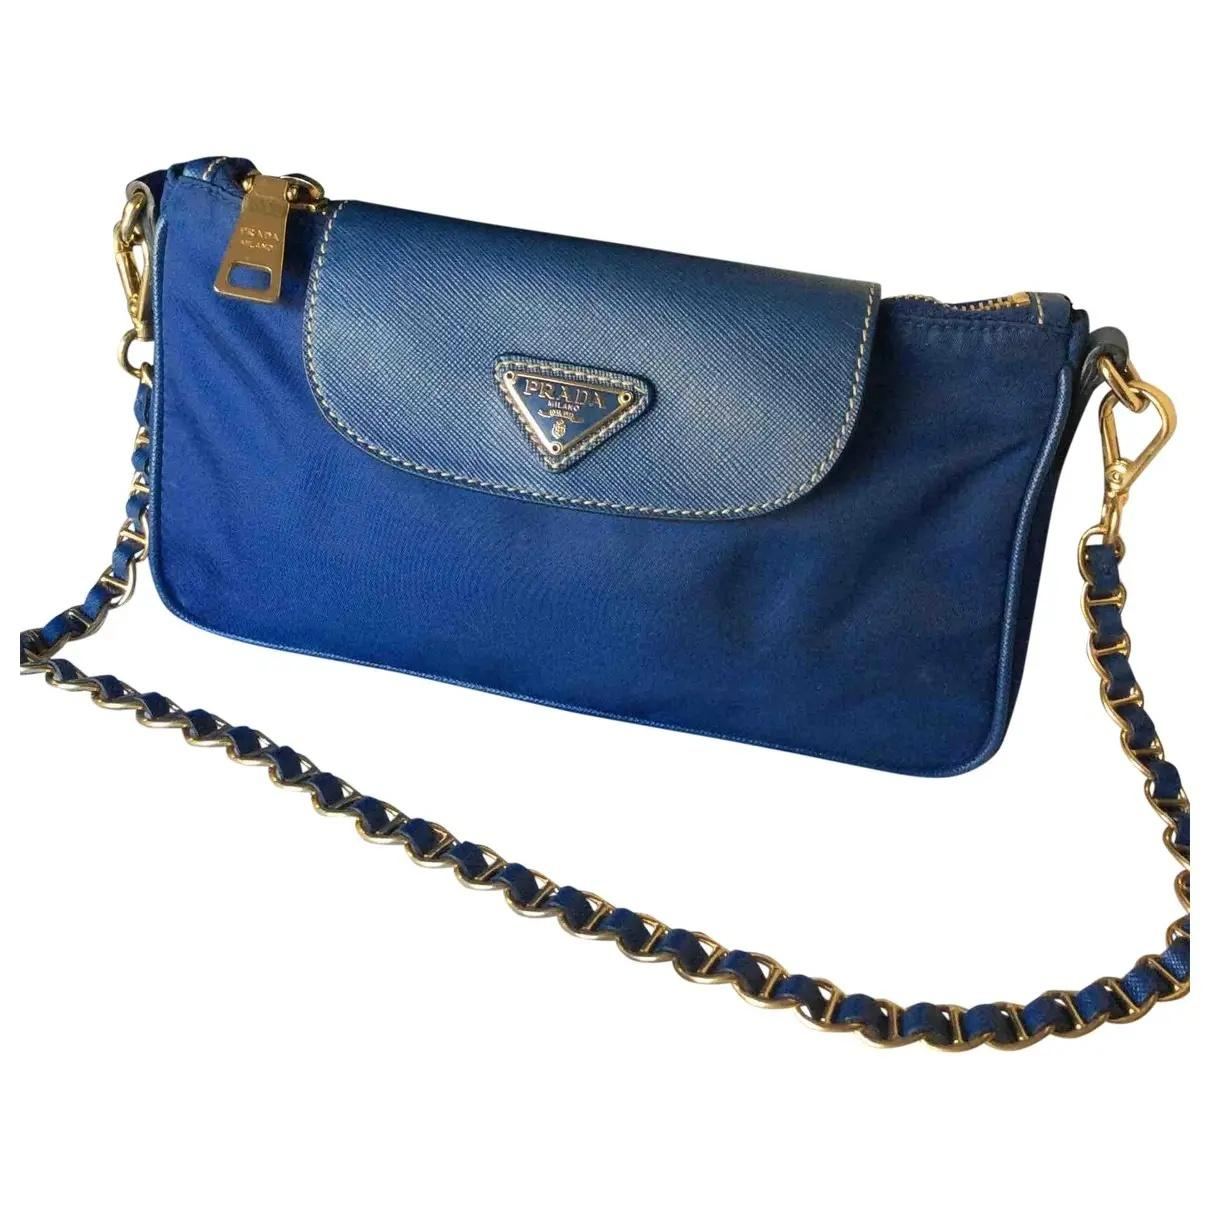PRADA: (503, 369, 636, 457)
